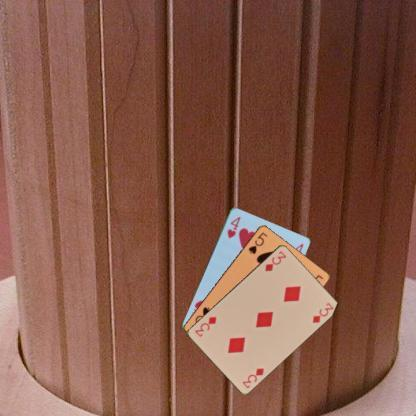3d: (240, 364, 266, 390), (262, 248, 288, 272)
4h: (224, 214, 242, 240)
5s: (246, 230, 268, 254)
